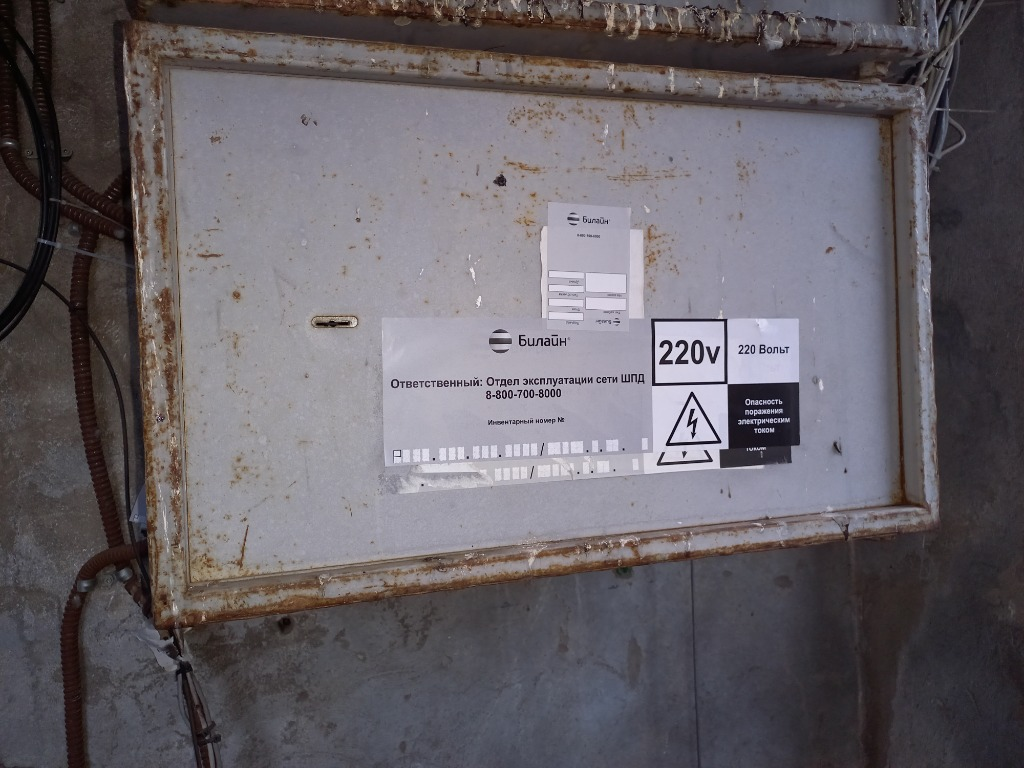e2-6u: (96, 10, 952, 645)
